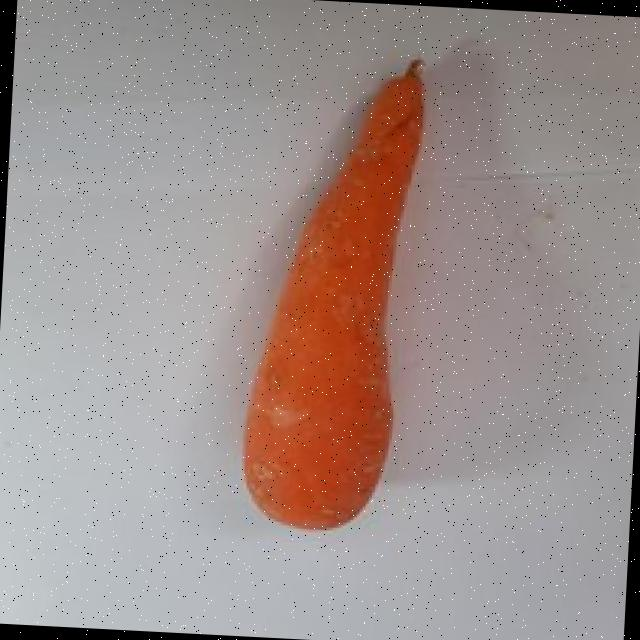carrot: (244, 60, 421, 529)
